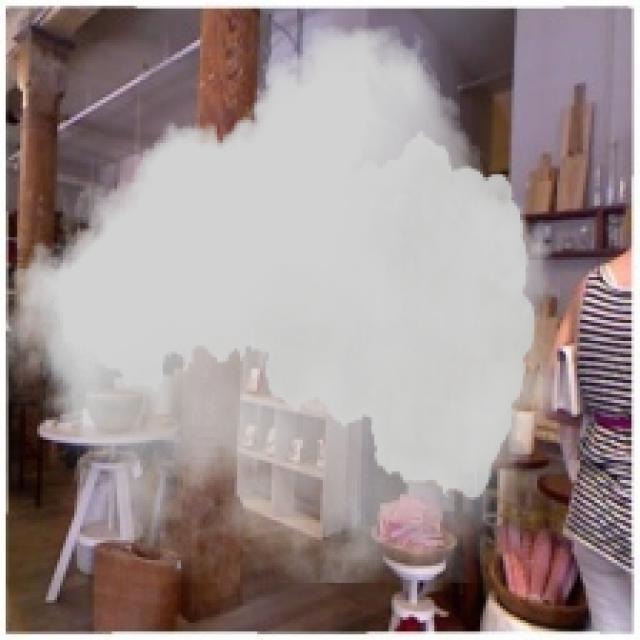Smoke: (8, 26, 560, 583)
